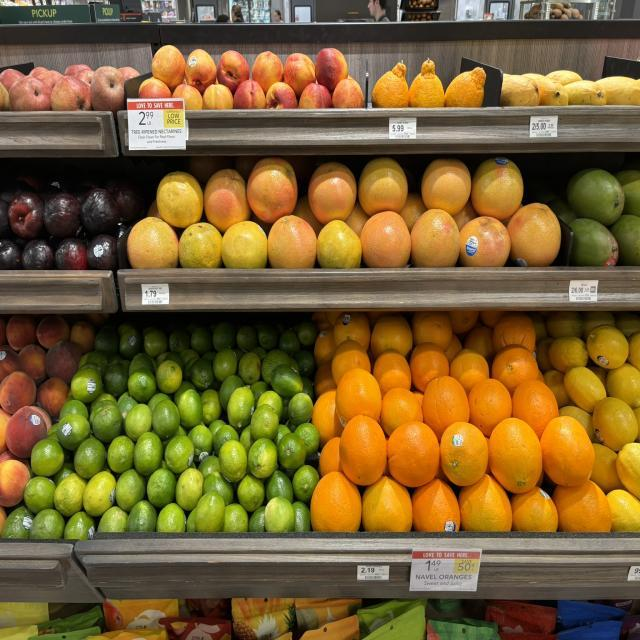Apple -Red-: (90, 67, 125, 117), (50, 77, 92, 112), (9, 77, 51, 112), (65, 63, 94, 85), (0, 68, 25, 92), (38, 70, 62, 88), (75, 68, 95, 85), (119, 67, 140, 80), (29, 67, 49, 78)
Lemon: (592, 397, 638, 452), (564, 367, 606, 413), (586, 325, 629, 368), (590, 443, 625, 495), (606, 363, 640, 408), (559, 405, 598, 442), (606, 490, 640, 532), (549, 337, 589, 372), (616, 442, 640, 499), (544, 368, 572, 408), (546, 312, 584, 340), (582, 312, 615, 342), (615, 312, 640, 338), (536, 337, 554, 373), (628, 332, 640, 372)
Orange: (489, 418, 542, 493), (540, 417, 595, 487), (388, 422, 440, 487), (339, 415, 386, 485), (440, 422, 489, 487), (459, 473, 512, 532), (310, 472, 362, 532), (421, 377, 470, 440), (552, 480, 611, 532), (362, 477, 412, 532), (512, 380, 559, 438), (335, 368, 381, 427), (411, 478, 460, 532), (468, 378, 512, 437), (491, 345, 539, 397), (510, 487, 558, 532), (380, 387, 424, 435), (410, 342, 449, 393), (311, 390, 344, 448), (372, 348, 411, 397), (449, 348, 489, 395), (370, 315, 412, 358), (331, 340, 371, 385), (492, 313, 535, 352), (411, 312, 452, 352), (334, 312, 370, 350), (464, 327, 496, 360), (319, 437, 344, 477), (314, 327, 336, 367), (314, 360, 336, 398), (448, 310, 479, 334), (445, 333, 462, 363), (412, 390, 424, 406)
